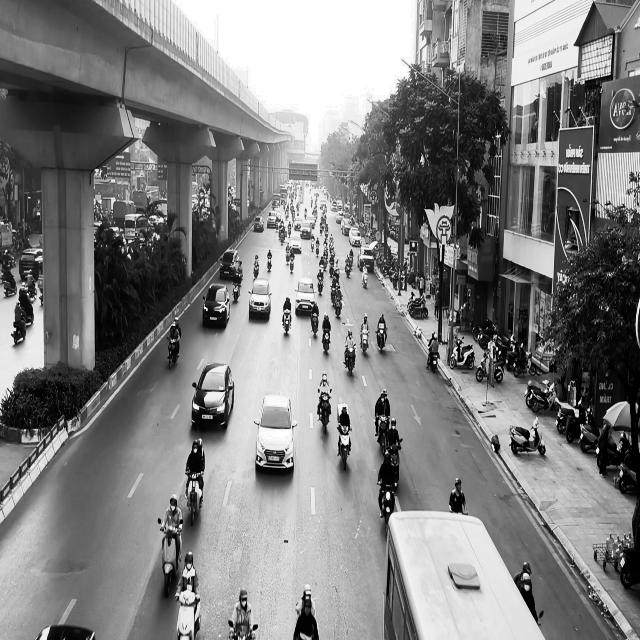car: (254, 394, 298, 471), (191, 362, 235, 429), (202, 283, 230, 328), (248, 278, 272, 320), (295, 276, 316, 314)
motorbike: (158, 518, 183, 596), (509, 416, 546, 456), (175, 591, 201, 639), (378, 480, 398, 537), (185, 468, 204, 526), (385, 437, 403, 488), (337, 423, 352, 471), (317, 388, 332, 433), (228, 620, 258, 640), (377, 414, 390, 455), (344, 342, 357, 376), (167, 334, 180, 368), (426, 342, 439, 373), (12, 317, 26, 344), (376, 325, 387, 354), (360, 328, 370, 356), (282, 308, 292, 335), (322, 329, 331, 354), (311, 314, 319, 337), (233, 280, 240, 301), (362, 270, 368, 289)
truck: (382, 509, 546, 639)
